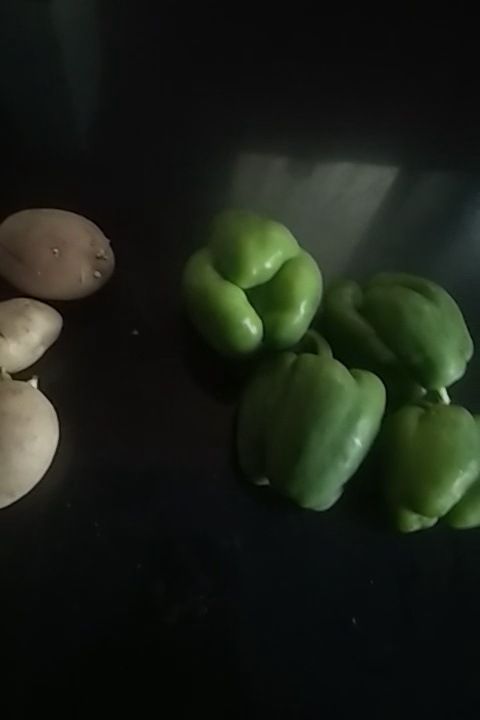capsicum: (250, 345, 389, 507), (185, 207, 333, 357), (325, 262, 475, 396), (385, 396, 480, 545)
potato: (1, 209, 111, 304), (1, 378, 56, 514), (1, 295, 64, 368)
